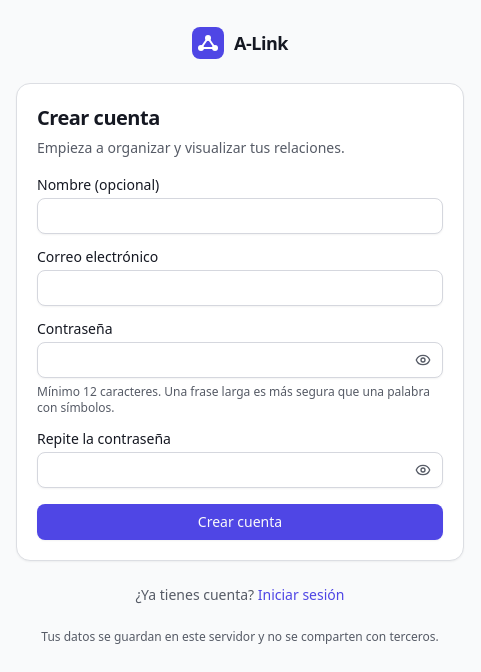
Test: RegisterPage › muestra el error de campo que devuelve el servidor sin perder lo escrito
Type "ana@example.test" into the field labelled "Correo electrónico" at (240, 288), box [37,270,443,306]
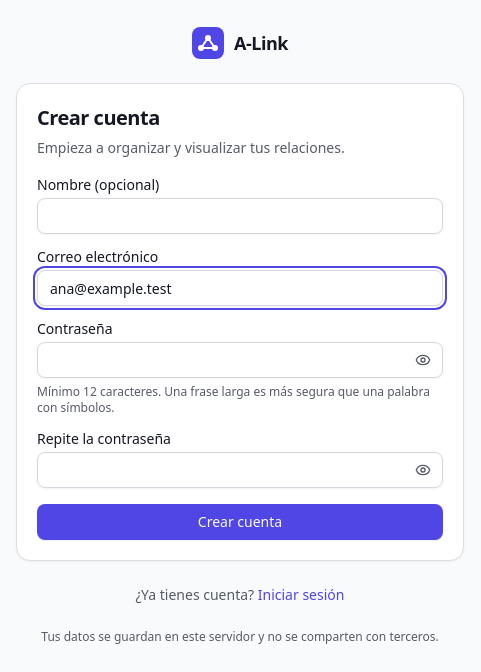
Type "Una-Frase-Larga-2026!" into the password field labelled "Contraseña" at (240, 360), box [37,342,443,378]
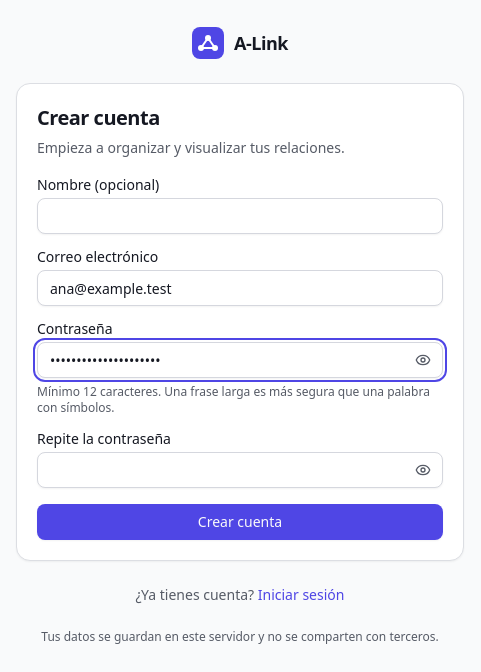
Type "Una-Frase-Larga-2026!" into the password field labelled "Repite la contraseña" at (240, 470), box [37,452,443,488]
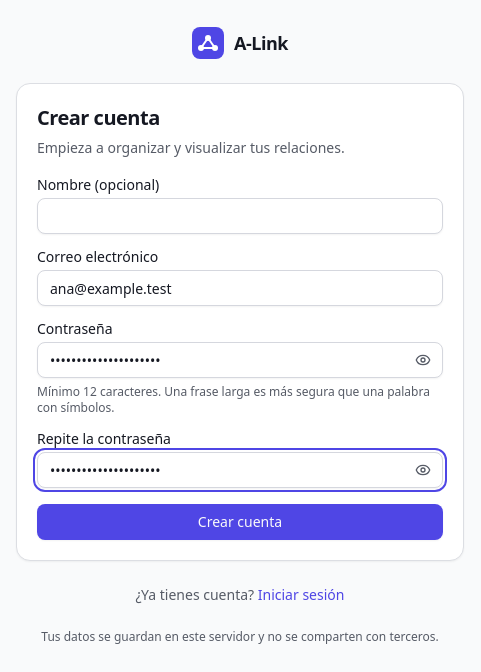
Click the button "Crear cuenta" at (240, 522), box [37,504,443,540]
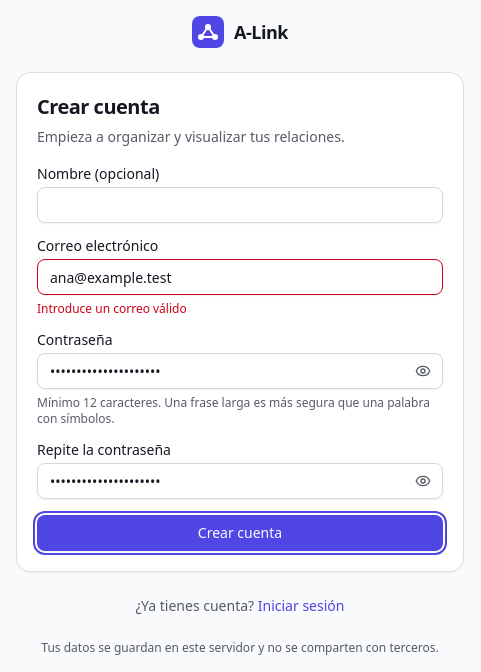
expect the text "Introduce un correo válido" is shown: met, box [37,300,187,317]
